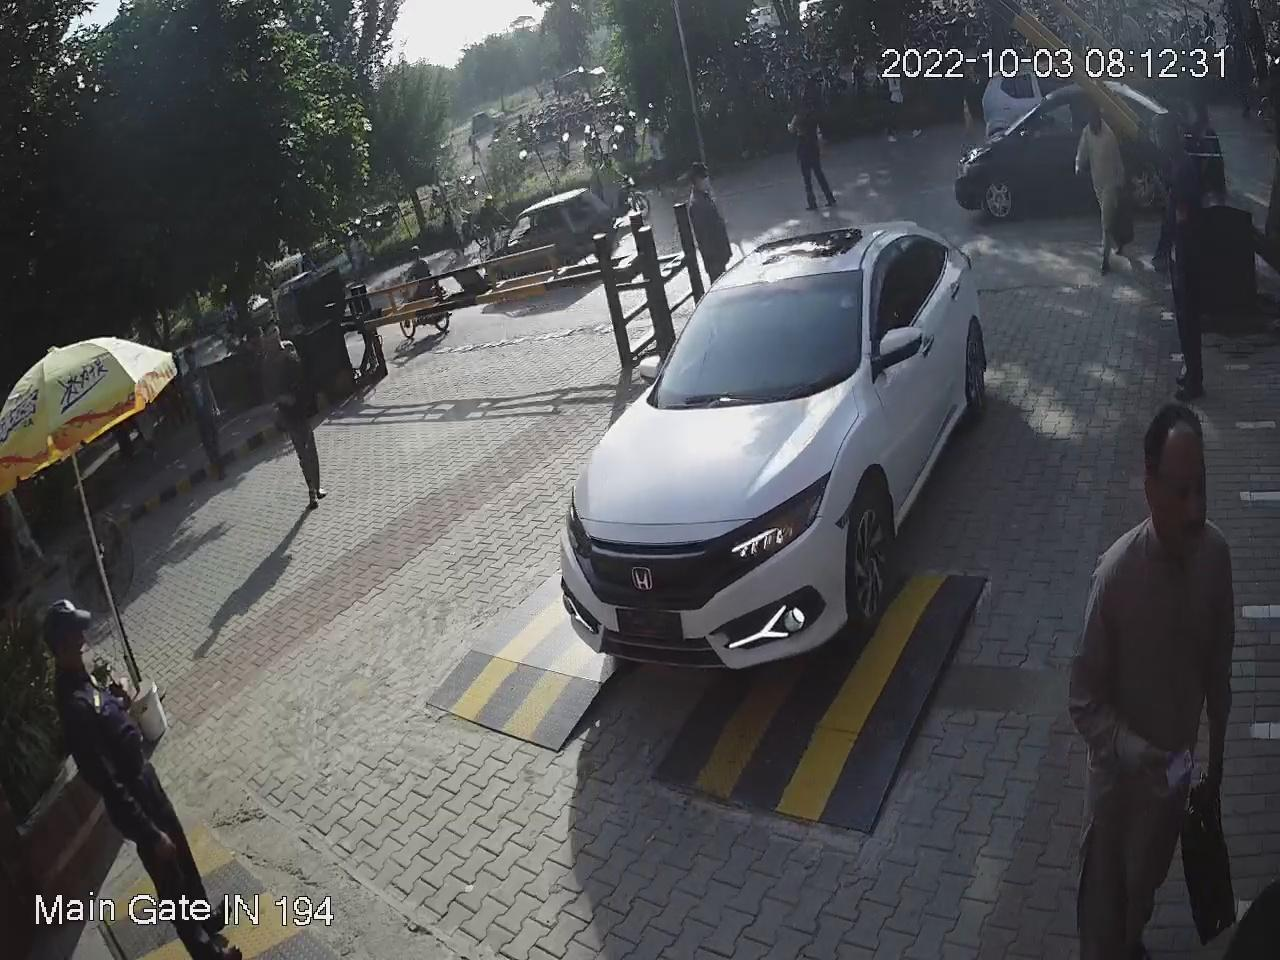windshield: (655, 252, 866, 390)
